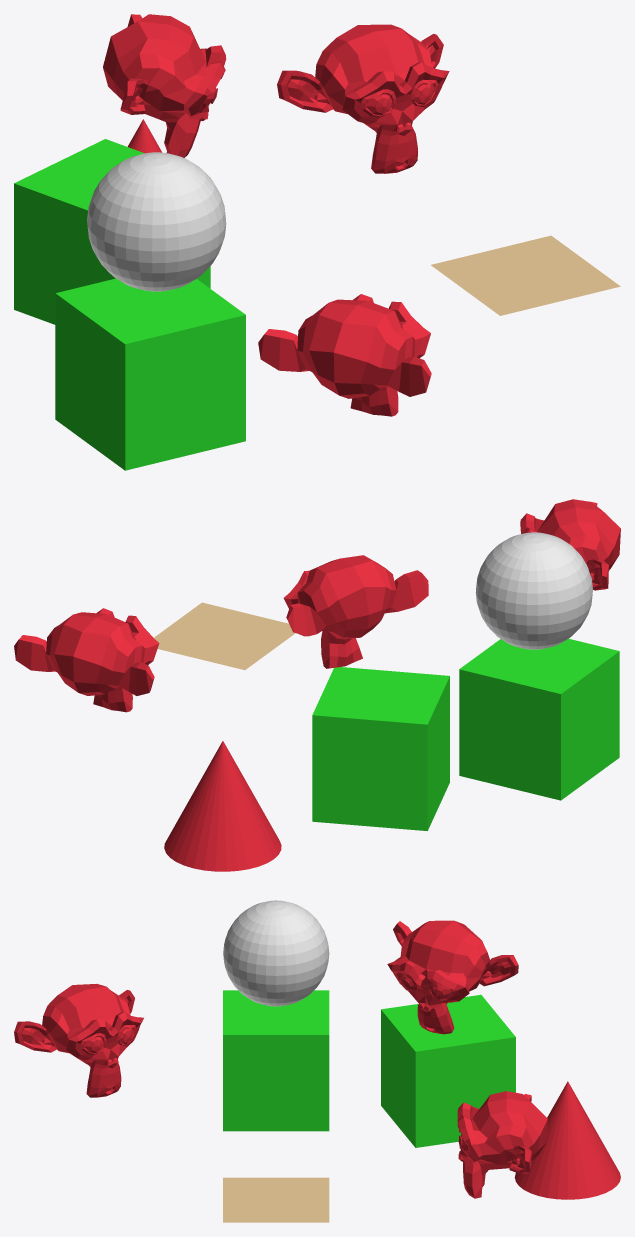
File: TestScene.fbx
3 renders of one model, top to bottom at view 1: azimuth 30°, elevation 25°; view 2: azimuth 150°, elevation 25°; view 3: azimuth 270°, elevation 25°, orthographic. The views are drawn at different scales.
Visible parts, largest first — view 1: Cube, Sphere, Suzanne, Suzanne.001, Cube.001, Suzanne.002, Plane, Cone; view 2: Cube, Cube.001, Sphere, Suzanne.002, Suzanne, Cone, Plane, Suzanne.001; view 3: Cube.001, Cube, Sphere, Suzanne.002, Suzanne.001, Cone, Suzanne, Plane.
Boxes of the visible parts, x1,y1,x2,y2 form: Cube: (55, 278, 245, 470); Sphere: (87, 152, 226, 291); Suzanne: (277, 24, 449, 173); Suzanne.001: (258, 294, 431, 416); Cube.001: (14, 139, 210, 324); Suzanne.002: (103, 14, 226, 157); Plane: (431, 235, 620, 315); Cone: (127, 119, 161, 153); Cube: (459, 638, 619, 800); Cube.001: (312, 667, 449, 830); Sphere: (475, 532, 592, 649); Suzanne.002: (283, 555, 428, 668); Suzanne: (14, 608, 159, 712); Cone: (164, 741, 281, 871); Plane: (154, 602, 295, 670); Suzanne.001: (520, 499, 620, 590); Cube.001: (381, 994, 515, 1147); Cube: (223, 990, 329, 1131); Sphere: (223, 900, 329, 1006); Suzanne.002: (387, 920, 518, 1034); Suzanne.001: (14, 984, 143, 1097); Cone: (514, 1081, 620, 1199); Suzanne: (457, 1091, 547, 1198); Plane: (223, 1177, 329, 1222).
Size of the model in its own units: 8.58 by 4.72 by 11.43.
